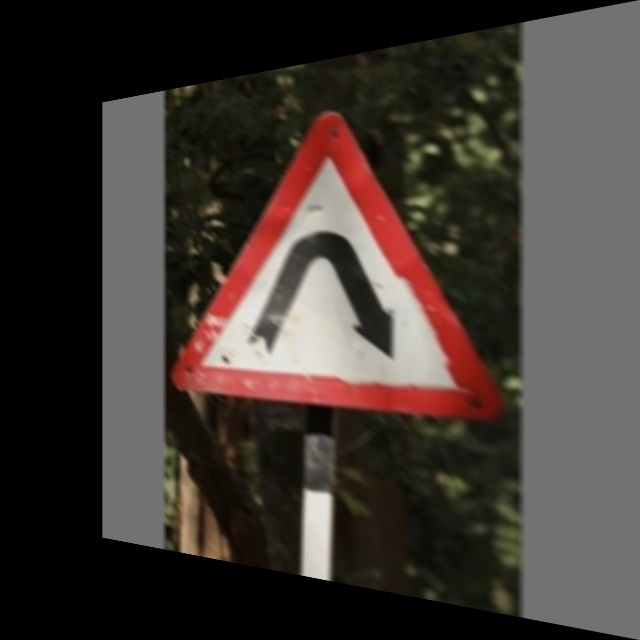Right_Hair_Pin_Bend: (180, 84, 485, 417)
